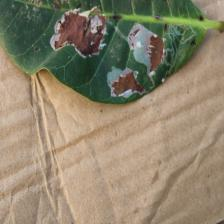leaf miner: (0, 0, 223, 104)
